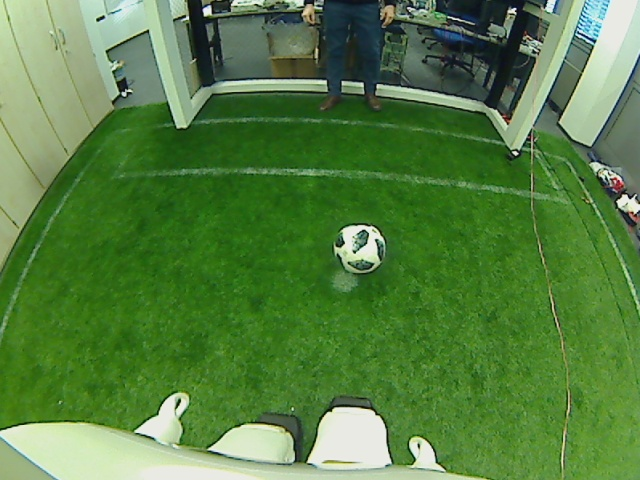ball: (330, 221, 388, 276)
